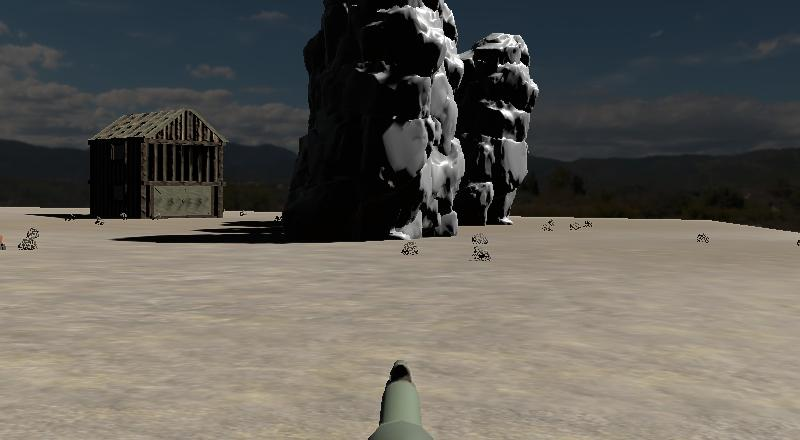House: (89, 108, 227, 218)
